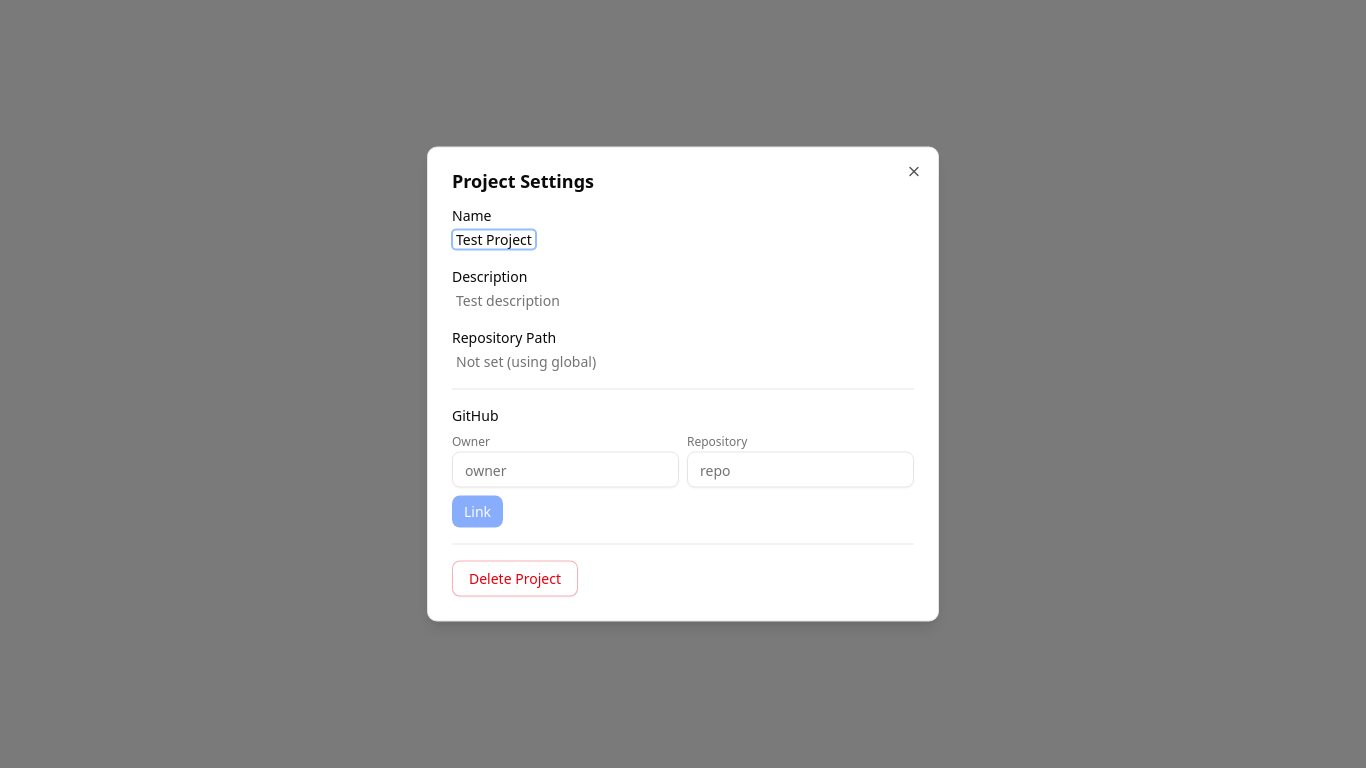
ProjectSettingsModal › enters name edit mode on click
Click the button "Test Project" at (494, 240), box [452,230,536,250]
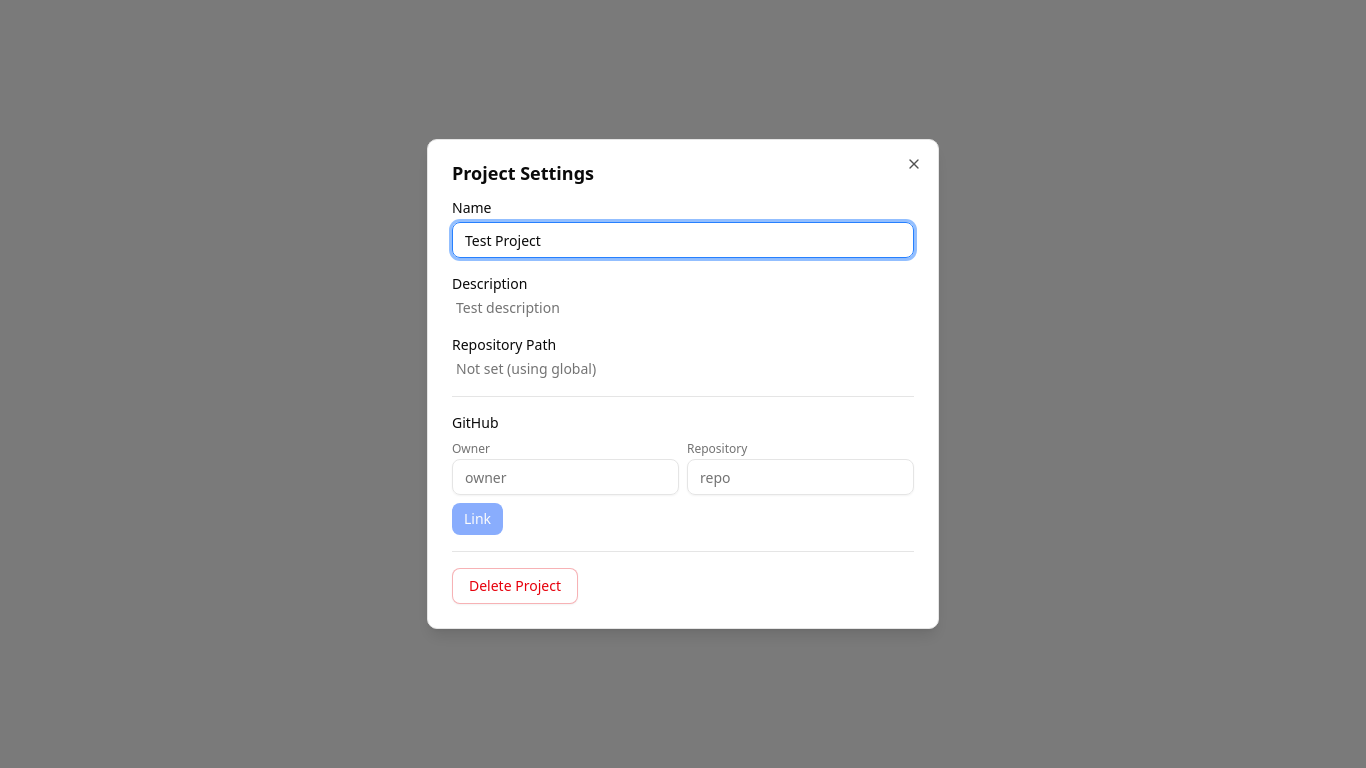
Expected: the field showing "Test Project" is shown, [452,222,914,258]
